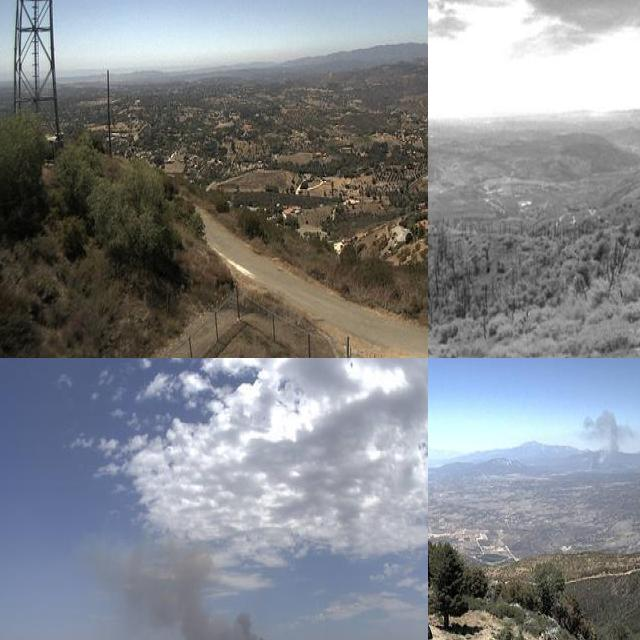smoke: (88, 520, 310, 640), (578, 405, 640, 475)
